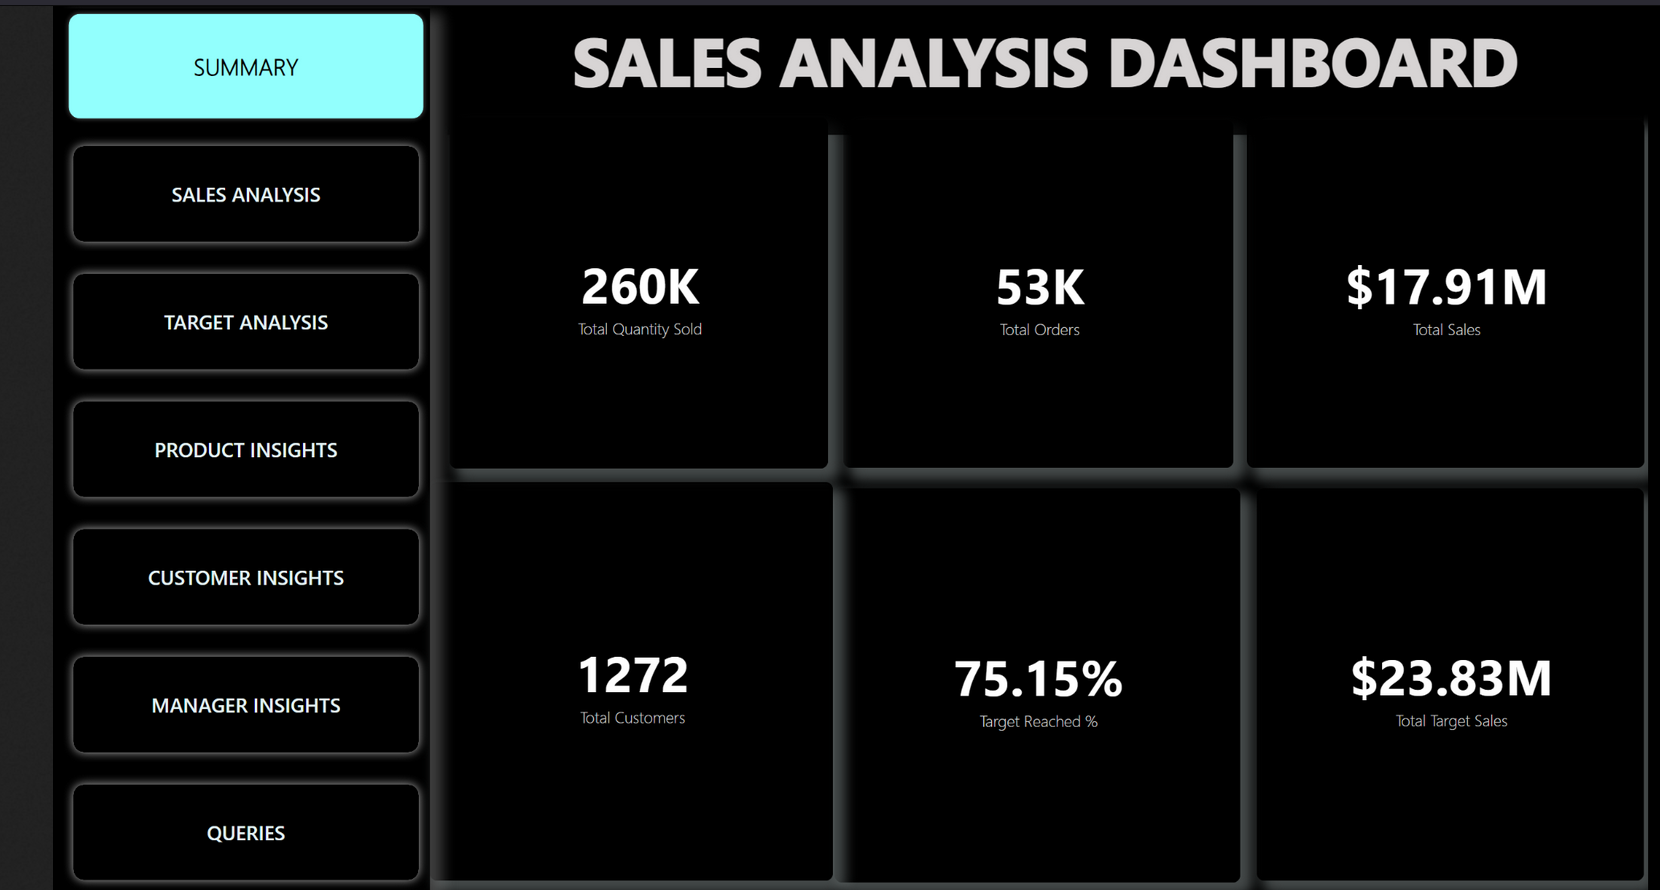

The page's visual inventory and layout, read from the dashboard file:
{"tool":"powerbi","page":{"name":"SUMMARY","canvas":[1280,720],"ordinal":0},"visuals":[{"type":"card","fields":{"Values":["sales_targets_analysis sales.Target Reached %"]},"box":[622.4,388.5,327.4,317.9],"z":0,"group":"g2"},{"type":"group","id":"g1","title":"Group 3","box":[295.8,89.6,981.2,614.6],"z":1000},{"type":"card","fields":{"Values":["sales_targets_analysis sales.Total Customers"]},"box":[295.8,383.4,325.5,321.7],"z":1000,"group":"g2"},{"type":"textbox","box":[310.4,2.1,966.7,102.1],"z":2000},{"type":"card","fields":{"Values":["sales_targets_analysis sales.Total Orders"]},"box":[629.7,92.1,315.1,280.4],"z":2000,"group":"g1"},{"type":"pageNavigator","box":[0,2.1,295.8,716.7],"z":2001},{"type":"card","fields":{"Values":["sales_targets_analysis sales.Total Quantity Sold"]},"box":[311.4,89.6,305.4,282.8],"z":3000,"group":"g1"},{"type":"card","fields":{"Values":["sales_targets_analysis sales.Total Sales"]},"box":[956.2,92.1,320.8,280.4],"z":4000,"group":"g1"},{"type":"card","fields":{"Values":["sales_targets_analysis targets.Total Target Sales"]},"box":[964.2,388.6,312.4,316.6],"z":4002,"group":"g2"},{"type":"group","id":"g2","title":"Group 2","box":[295.8,383.4,980.8,323],"z":4007,"group":"g1"}]}

Visuals, with their boxes on the page's 1280x720 design canvas (x1, y1, x2, y2). These are canvas units, not pixel positions in the 1660x890 screenshot, which may show the page scaled, cropped or inside an application window:
card - sales_targets_analysis sales.Target Reached %: <bbox>622, 388, 950, 706</bbox>
"Group 3" group: <bbox>296, 90, 1277, 704</bbox>
card - sales_targets_analysis sales.Total Customers: <bbox>296, 383, 621, 705</bbox>
textbox: <bbox>310, 2, 1277, 104</bbox>
card - sales_targets_analysis sales.Total Orders: <bbox>630, 92, 945, 372</bbox>
pageNavigator: <bbox>0, 2, 296, 719</bbox>
card - sales_targets_analysis sales.Total Quantity Sold: <bbox>311, 90, 617, 372</bbox>
card - sales_targets_analysis sales.Total Sales: <bbox>956, 92, 1277, 372</bbox>
card - sales_targets_analysis targets.Total Target Sales: <bbox>964, 389, 1277, 705</bbox>
"Group 2" group: <bbox>296, 383, 1277, 706</bbox>
